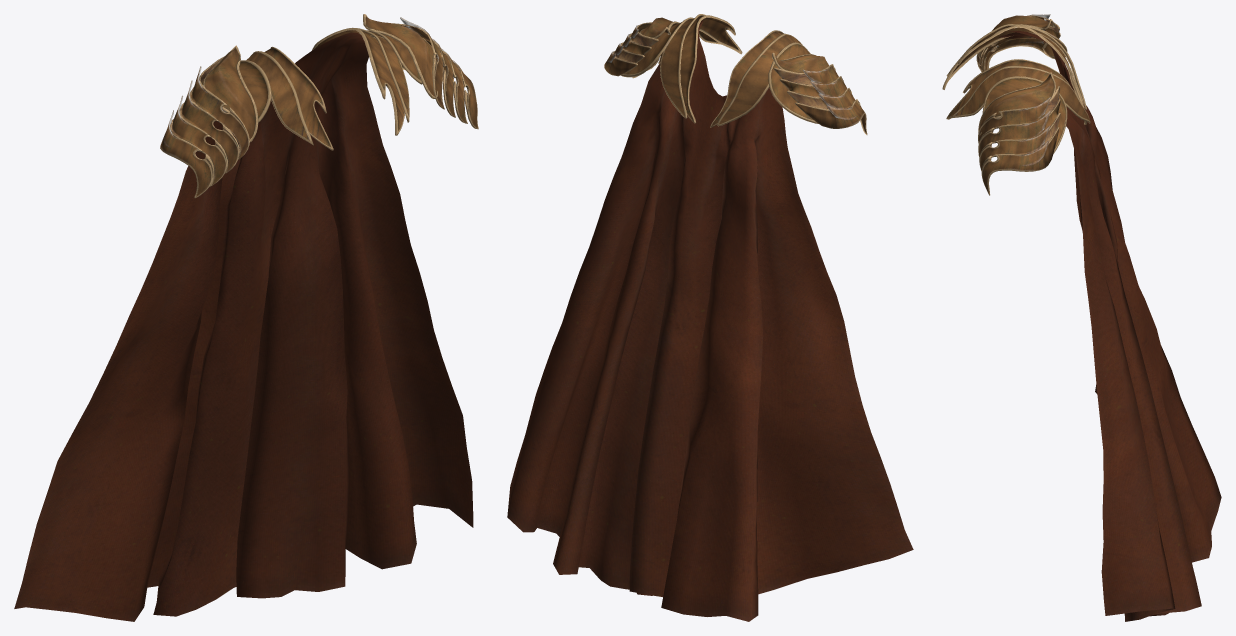
The model's file is mkwd_inf3_pauldron_bronze.fbx.
The picture shows the model from 3 angles, left to right: view 1: azimuth 30°, elevation 25°; view 2: azimuth 150°, elevation 25°; view 3: azimuth 270°, elevation 25°; orthographic projection. The views are drawn at different scales.
Visible parts, largest first — view 1: mkwd_inf3_pauldron_bronze.lod0.1, mkwd_inf3_pauldron_bronze.lod0.0; view 2: mkwd_inf3_pauldron_bronze.lod0.1, mkwd_inf3_pauldron_bronze.lod0.0; view 3: mkwd_inf3_pauldron_bronze.lod0.1, mkwd_inf3_pauldron_bronze.lod0.0.
Boxes of the visible parts, x1=… form: mkwd_inf3_pauldron_bronze.lod0.1: x1=14, y1=32, x2=473, y2=621; mkwd_inf3_pauldron_bronze.lod0.0: x1=160, y1=14, x2=478, y2=198; mkwd_inf3_pauldron_bronze.lod0.1: x1=507, y1=20, x2=913, y2=621; mkwd_inf3_pauldron_bronze.lod0.0: x1=604, y1=14, x2=867, y2=134; mkwd_inf3_pauldron_bronze.lod0.1: x1=999, y1=30, x2=1221, y2=621; mkwd_inf3_pauldron_bronze.lod0.0: x1=942, y1=14, x2=1090, y2=195.
Bounding box in the file's own units: 1.15 × 0.7028 × 1.49.
